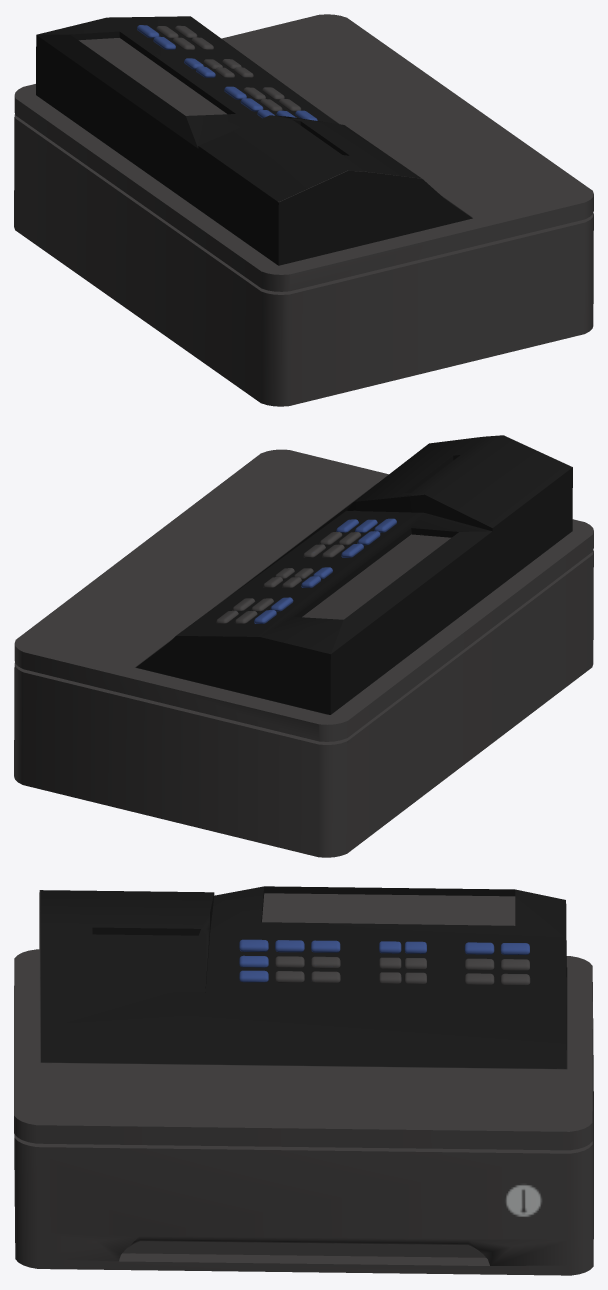
File: RegisterEmbedded.fbx
3 views of the same model, one above another, from view 1: azimuth 30°, elevation 25°; view 2: azimuth 150°, elevation 25°; view 3: azimuth 270°, elevation 25° (orthographic). The views are drawn at different scales.
Visible parts, largest first — view 1: Rigester; view 2: Rigester; view 3: Rigester.
Boxes of the visible parts, x1=… form: Rigester: x1=14, y1=14, x2=593, y2=406; Rigester: x1=14, y1=435, x2=593, y2=857; Rigester: x1=14, y1=886, x2=593, y2=1275.
Bounding box in the file's own units: 11.67 × 7.3 × 16.25.
Materials: 1 (1 with a texture image).
